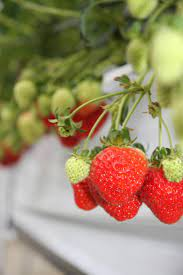ripe: (95, 152, 142, 233), (88, 140, 137, 203), (138, 156, 181, 227), (68, 163, 101, 218), (68, 107, 104, 137), (11, 77, 37, 110)
unripe: (149, 28, 181, 85), (48, 85, 78, 119), (14, 114, 45, 146), (74, 76, 103, 109), (125, 41, 150, 79), (65, 153, 90, 186), (161, 149, 181, 184)
